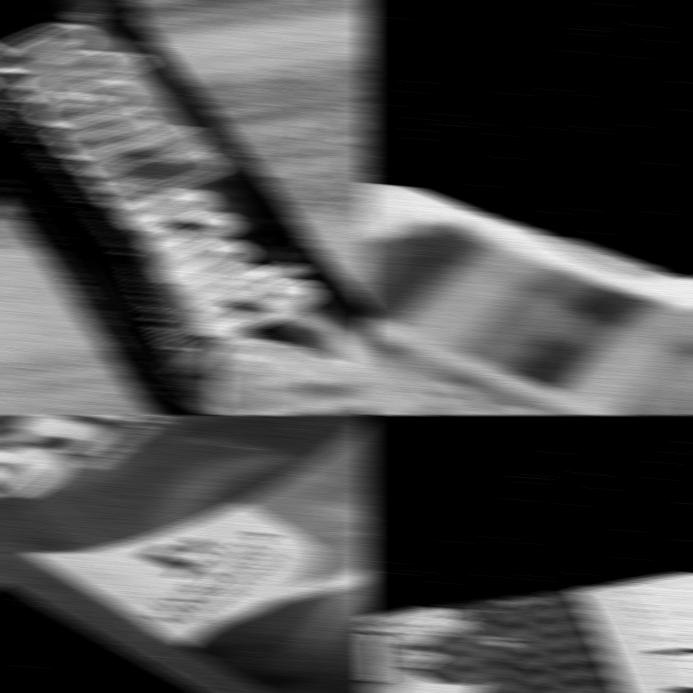choco mucho: (0, 0, 372, 415)
colgate: (0, 415, 372, 693)
oishi crackers: (362, 182, 693, 415)
vcut cheese: (362, 572, 693, 693)
